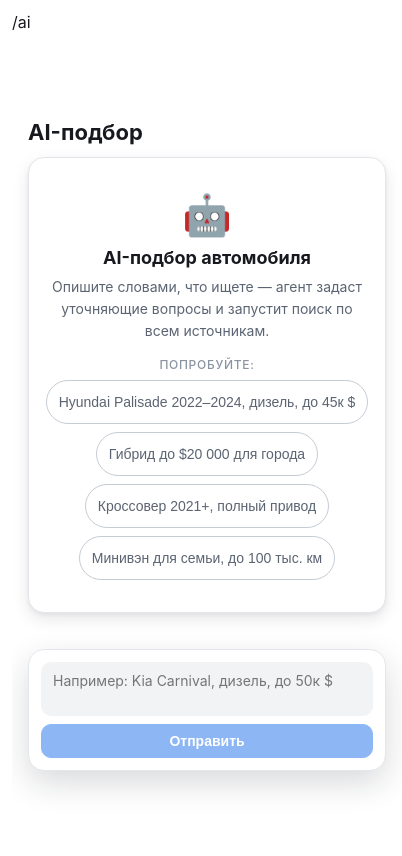
Test case: AiSearch: ошибки агента по маппингу 03 §3.2 › 429 → «Слишком много вопросов подряд» без сырого detail
Click the button "Минивэн для семьи, до 100 тыс. км": (207, 558) [79, 536, 335, 580]
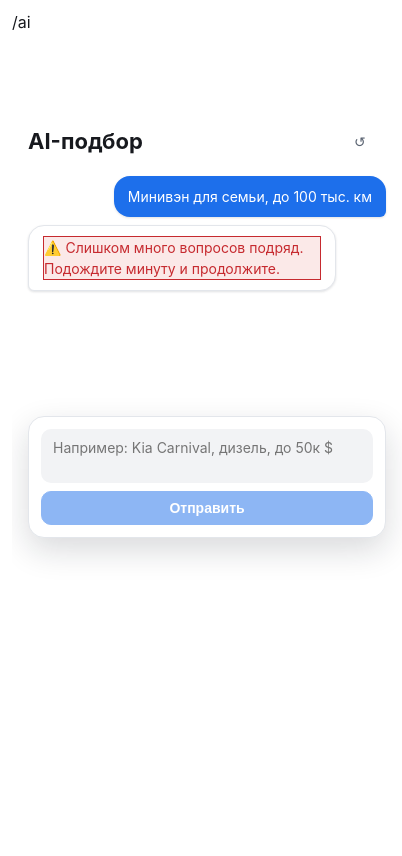
Expected: the text "Слишком много вопросов подряд" is shown, [44, 239, 308, 277]
